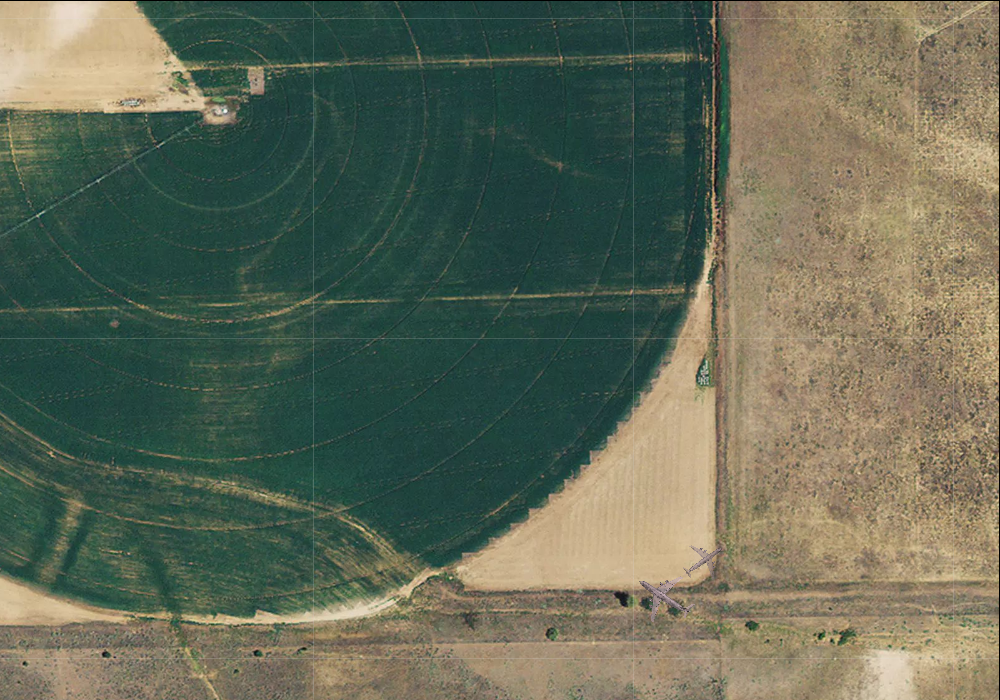plane: (624, 556, 706, 637), (674, 531, 733, 590)
